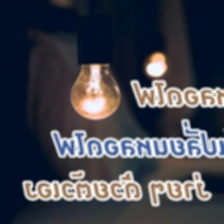light_bulb: (66, 59, 123, 123)
